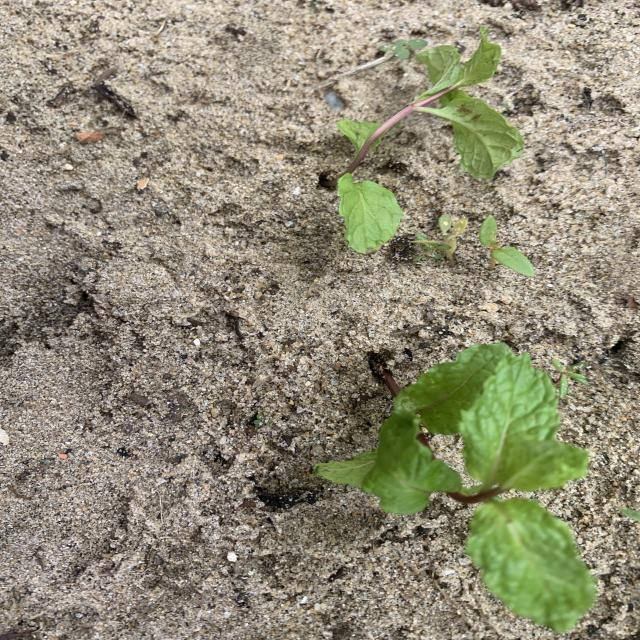crop: (311, 344, 589, 632), (330, 30, 524, 254)
weed: (479, 215, 534, 277), (413, 215, 468, 266), (551, 359, 588, 398), (379, 39, 428, 59), (619, 507, 640, 523)
